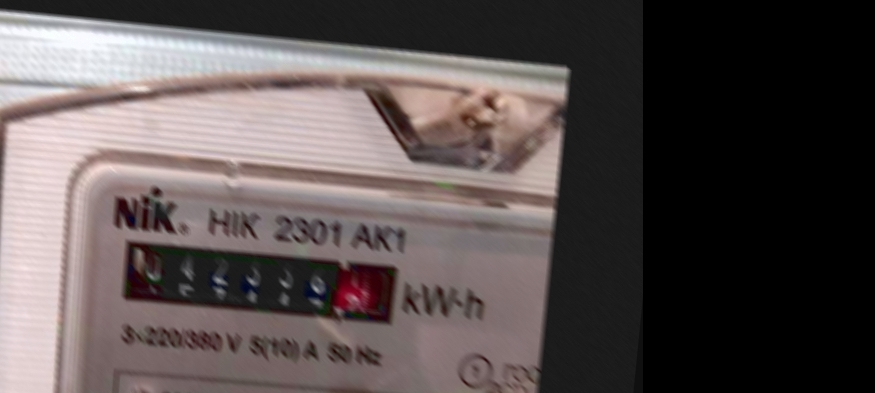0: (143, 252, 161, 282)
1: (346, 266, 360, 289)
2: (210, 255, 229, 285), (342, 292, 359, 311)
3: (274, 258, 293, 290), (243, 257, 260, 286)
4: (177, 251, 197, 281)
6: (308, 264, 328, 295)
screen: (108, 226, 410, 336)
